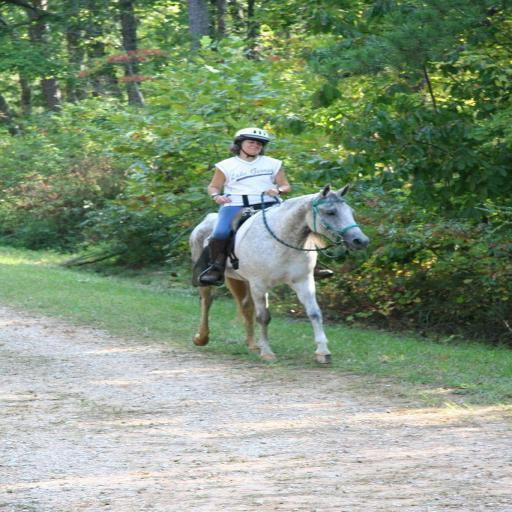horse: (192, 185, 370, 365)
